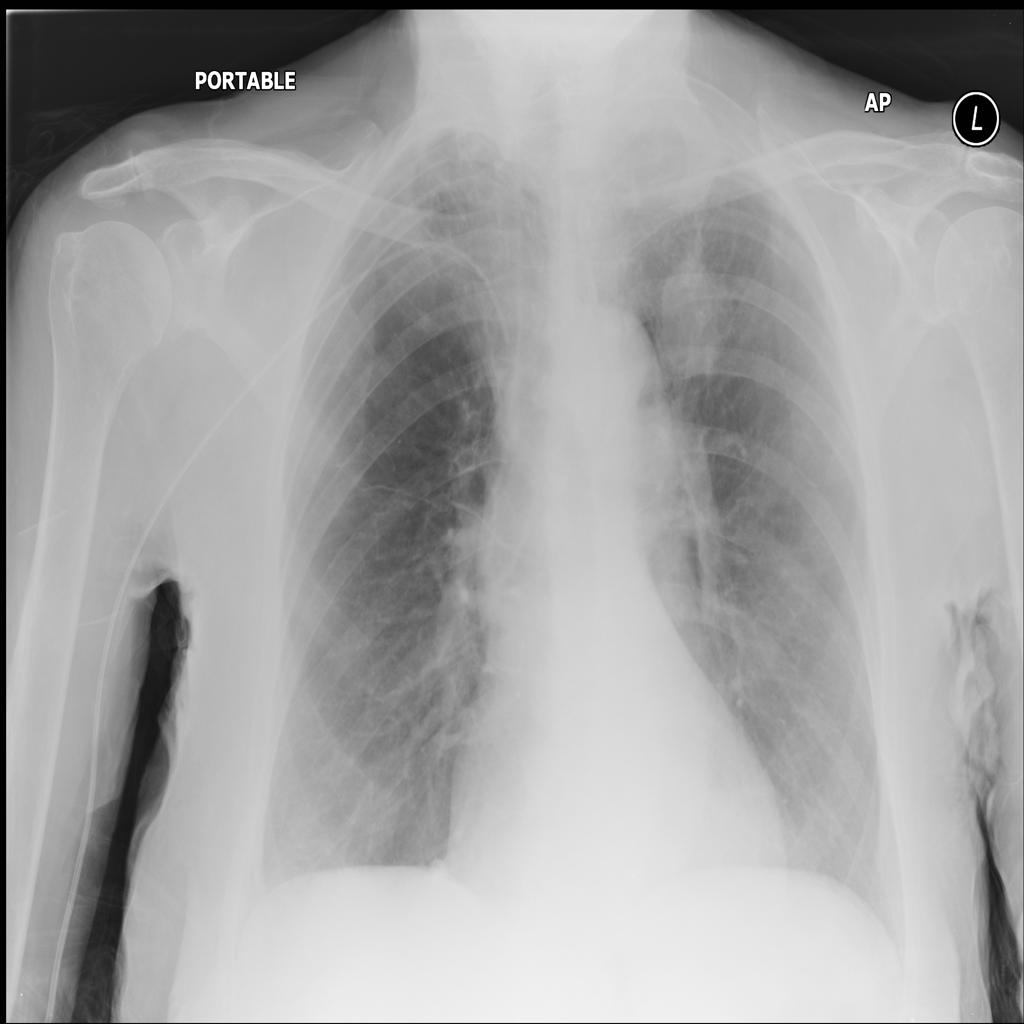nodule: (644, 237, 740, 393)
